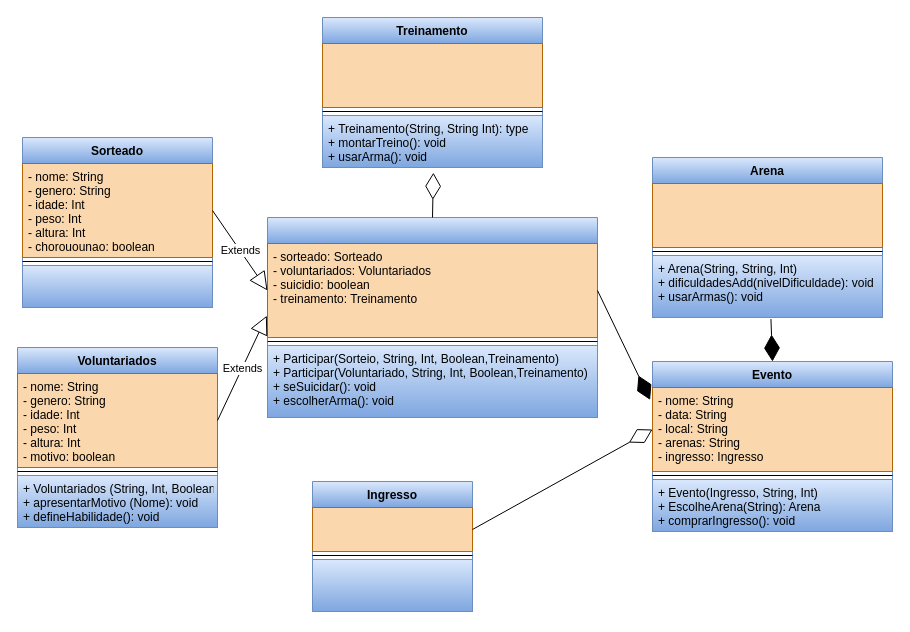
Some shapes in this 910 by 632 pixel diagram are drawn without their labels. Each missing label, with the box of its shape:
+ Ingresso(String, Int) + Escolheassento(): void + escolherVip(): void: (312, 558, 472, 612)
+ Sorteado(String, Int, Boolean) + chorar():void: (22, 264, 212, 308)
- cod_ingresso: int - assento: String: (312, 506, 472, 552)
- nome: String - nivelDificuldade: Int - tema: String: (652, 182, 882, 248)
- tipo: String - nivel: Int - habilidade: String: (322, 42, 542, 108)
Participantes: (266, 216, 598, 418)
